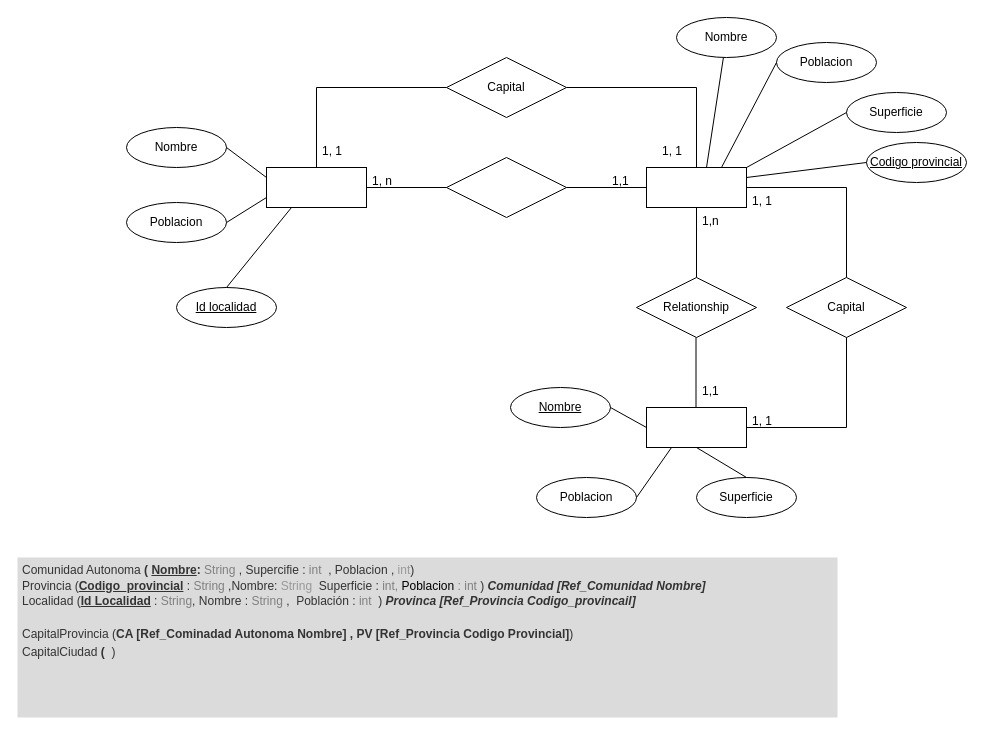
The diagram is 984 pixels wide and 735 high, and some of its shapes have lost their labels. The centre of each missing label's shape, as x and y in pixels:
Comunidad Autonoma: (x=696, y=427)
Localidad: (x=316, y=187)
Pertenece: (x=506, y=187)
Provincia: (x=696, y=187)
